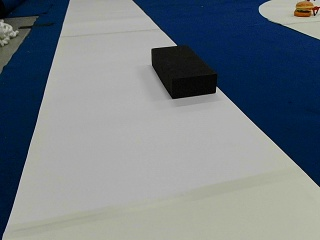block: (151, 44, 216, 99)
